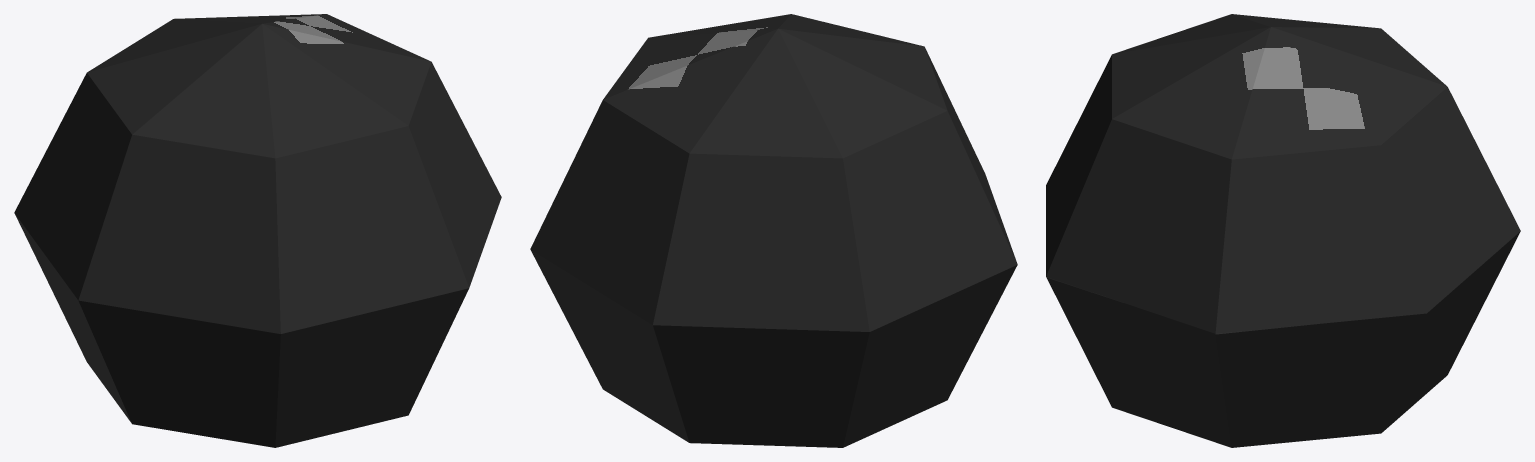
Rendered from Cannonball.fbx.
3 views of the same model, side by side, from view 1: azimuth 30°, elevation 25°; view 2: azimuth 150°, elevation 25°; view 3: azimuth 270°, elevation 25° (orthographic).
Parts seen in each view (by area): view 1: sphere; view 2: sphere; view 3: sphere.
Boxes of the visible parts, bbox=[...] form: sphere: bbox=[14, 14, 501, 447]; sphere: bbox=[530, 14, 1017, 447]; sphere: bbox=[1046, 14, 1520, 447].
Size of the model in its own units: 54.1 by 50 by 52.75.
1 material, 1 textured.
